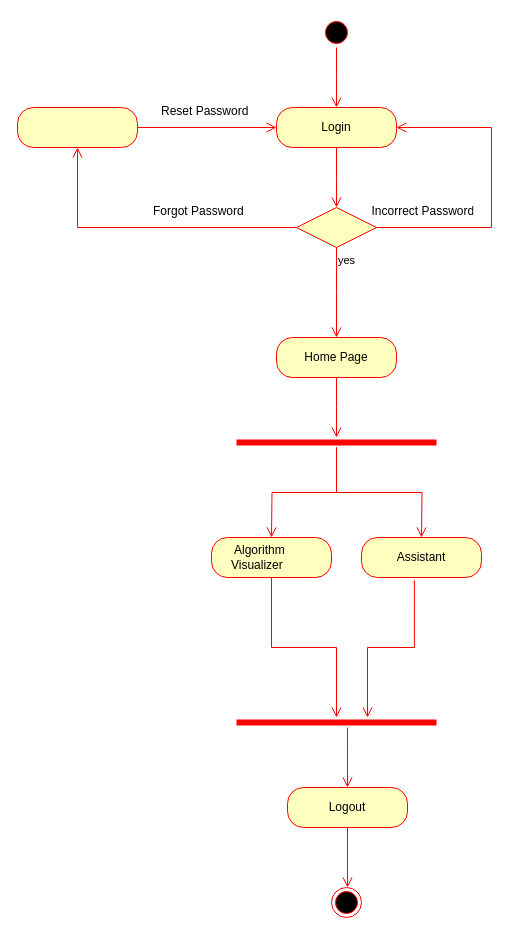
The diagram is 519 pixels wide and 935 high, and some of its shapes have lost their labels. Each missing label, with the centre of its shape:
"Email Varify" goes at pixel 77 127.
"valid" goes at pixel 336 227.
